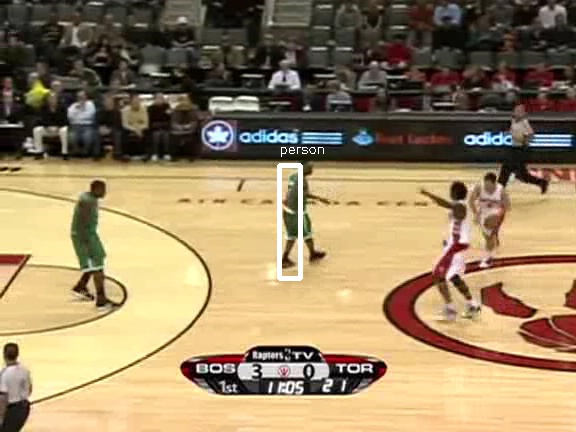person: (281, 169, 315, 250), (280, 169, 314, 250), (282, 169, 316, 250), (281, 168, 315, 249), (281, 170, 315, 251)
target_negative: (422, 32, 493, 187), (506, 302, 575, 377), (473, 348, 532, 431), (259, 342, 349, 364), (237, 127, 399, 138), (284, 17, 289, 64)
